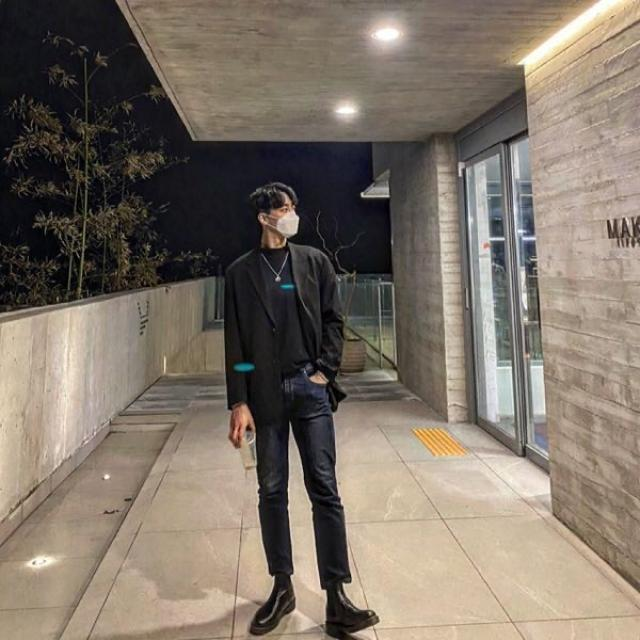blazer: (220, 243, 346, 415)
denimpants: (254, 359, 354, 585)
